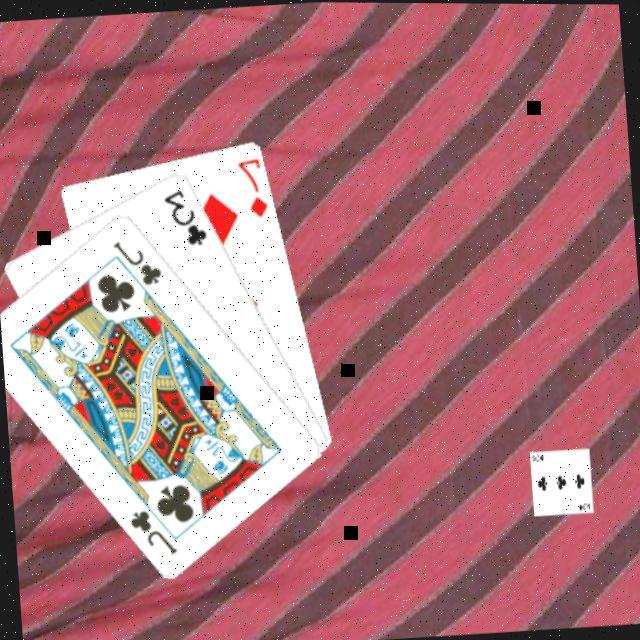3C: (160, 184, 212, 252)
7D: (234, 156, 272, 222)
JC: (110, 236, 167, 292), (126, 505, 182, 561)
